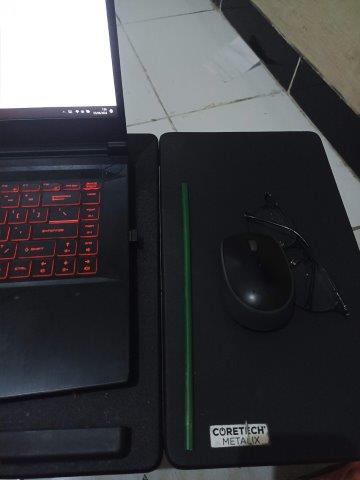sedotan: (181, 182, 192, 449)
